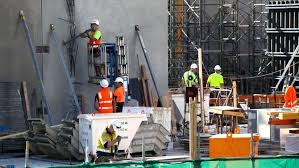helmet: (101, 80, 109, 88), (214, 63, 222, 71), (92, 18, 100, 25), (114, 77, 123, 83), (190, 62, 198, 68)
vest: (98, 91, 113, 112)
